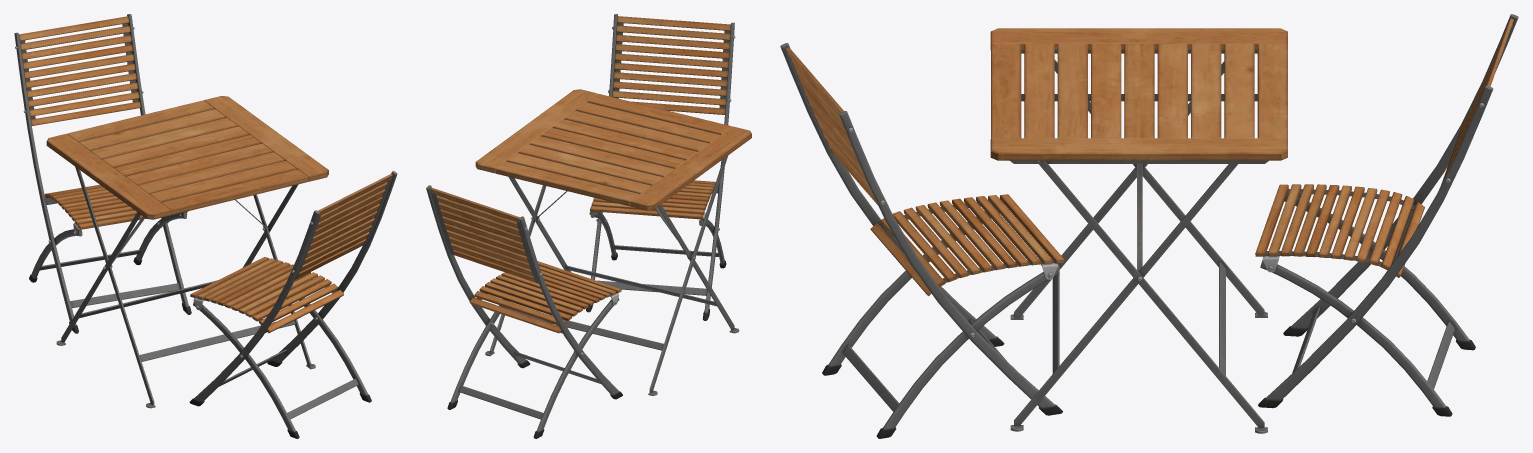
File: outdoor_table_chair_set_01.glb
3 views of the same model, side by side, from view 1: azimuth 30°, elevation 25°; view 2: azimuth 150°, elevation 25°; view 3: azimuth 270°, elevation 25° (orthographic). The views are drawn at different scales.
Parts seen in each view (by area): view 1: outdoor_table_chair_set_01_table, outdoor_table_chair_set_01_chair_02, outdoor_table_chair_set_01_chair_01; view 2: outdoor_table_chair_set_01_table, outdoor_table_chair_set_01_chair_02, outdoor_table_chair_set_01_chair_01; view 3: outdoor_table_chair_set_01_table, outdoor_table_chair_set_01_chair_01, outdoor_table_chair_set_01_chair_02.
Part boxes in pixels (x1,y1,x2,y2): outdoor_table_chair_set_01_table: [46, 96, 328, 408]; outdoor_table_chair_set_01_chair_02: [14, 14, 191, 333]; outdoor_table_chair_set_01_chair_01: [189, 171, 397, 438]; outdoor_table_chair_set_01_table: [475, 89, 751, 395]; outdoor_table_chair_set_01_chair_02: [426, 185, 622, 438]; outdoor_table_chair_set_01_chair_01: [586, 14, 735, 320]; outdoor_table_chair_set_01_table: [990, 28, 1287, 433]; outdoor_table_chair_set_01_chair_01: [780, 43, 1064, 438]; outdoor_table_chair_set_01_chair_02: [1255, 14, 1518, 416].
Bounding box in the file's own units: 0.7417 × 0.8586 × 1.72.
2 materials, 2 textured.
